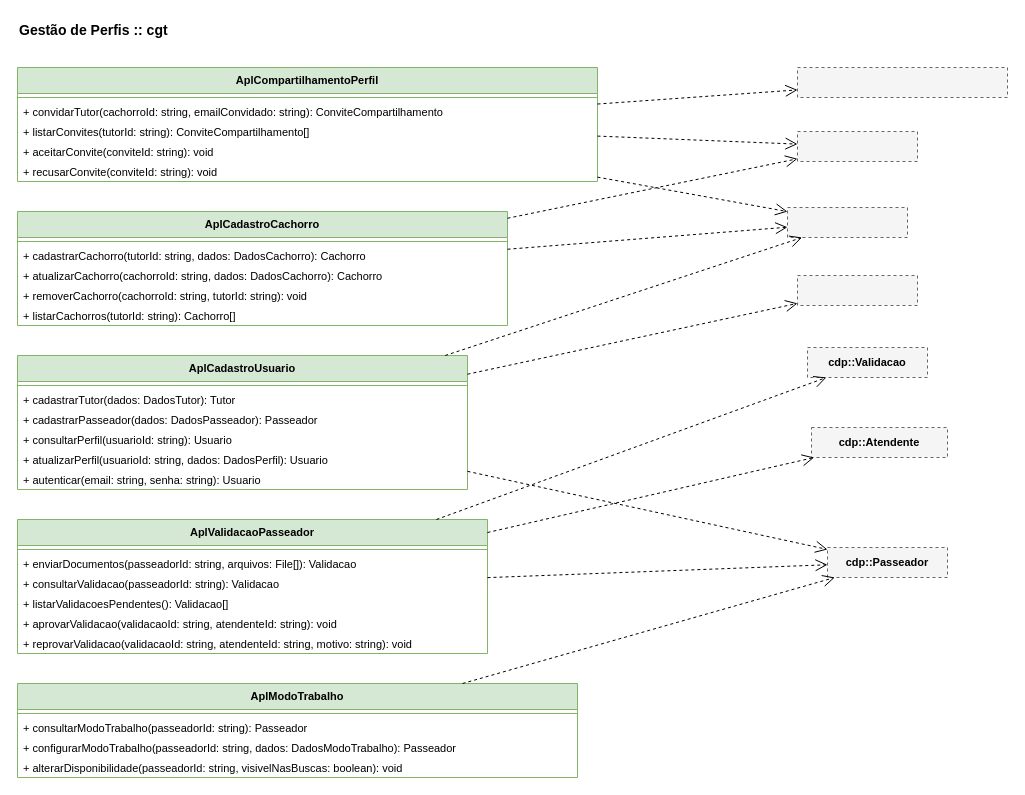
The diagram is 1025 pixels wide and 795 high, and some of its shapes have lost their labels. Here are the shapes that lost their labels. From the top down, the centre of each, then its label:
(x=902, y=82): cdp::ConviteCompartilhamento
(x=857, y=146): cdp::Cachorro
(x=847, y=222): cdp::Tutor
(x=857, y=290): cdp::Usuario
